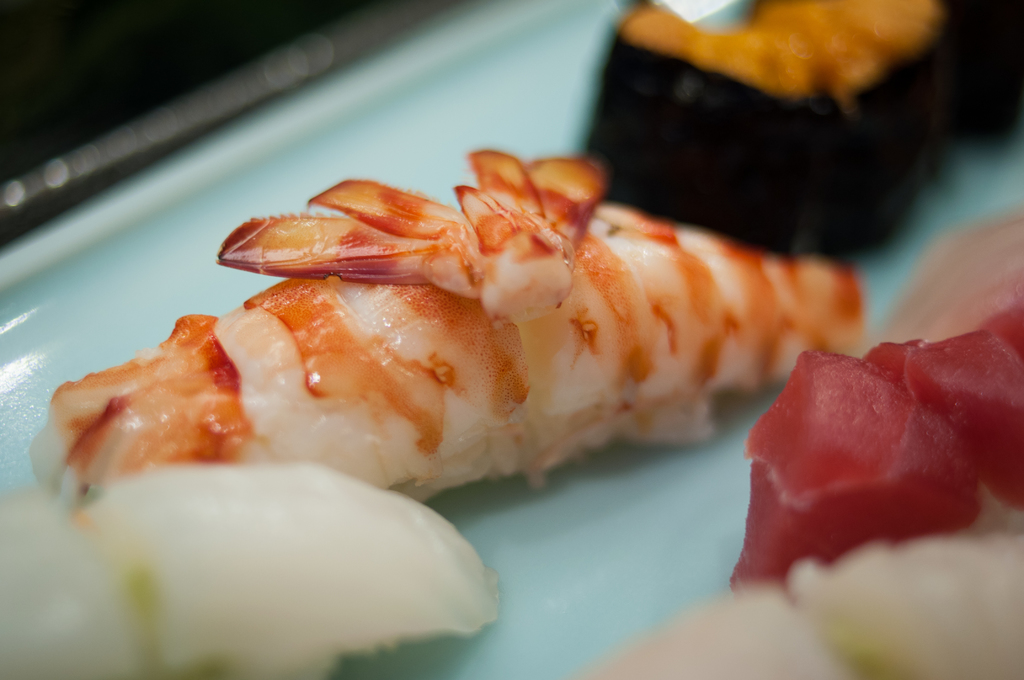sushi: (0, 0, 1023, 679), (38, 153, 863, 471)
